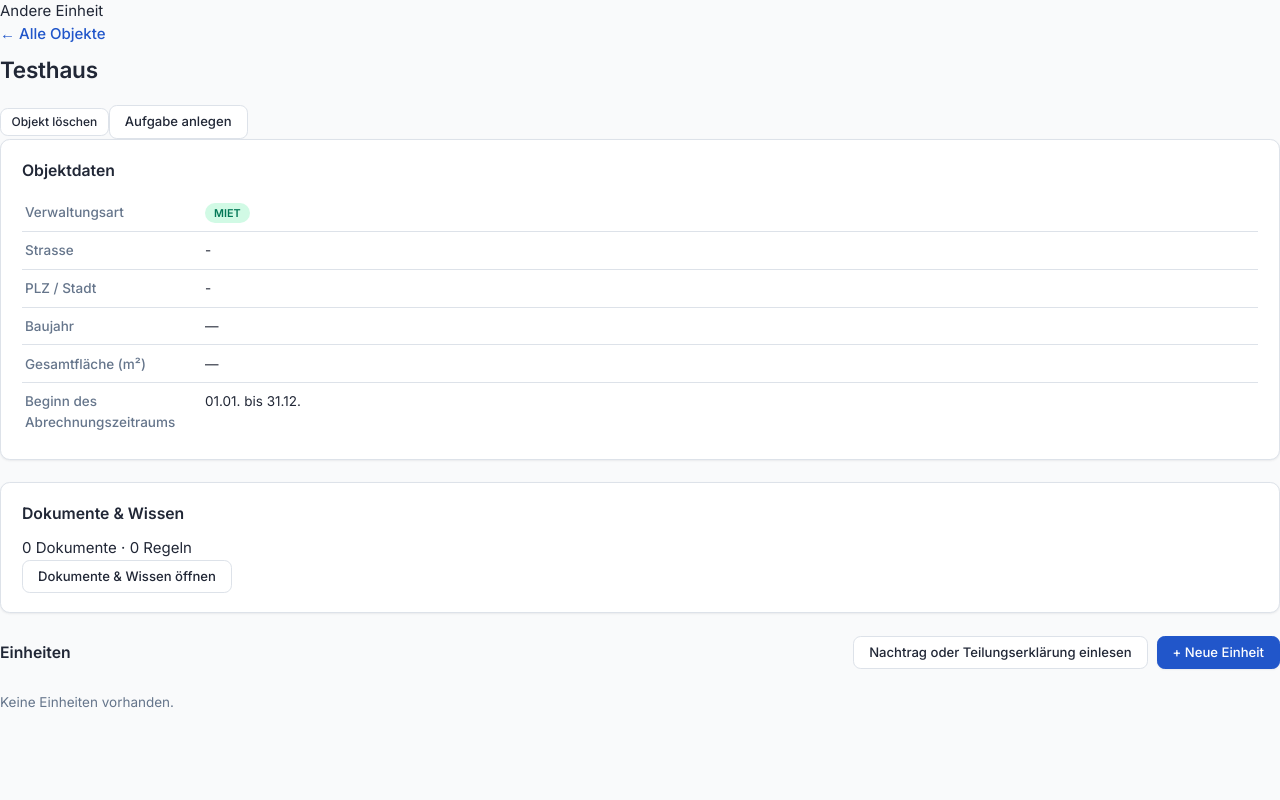
it: deletes /objekte/property and navigates to overview
This screenshot has width=1280, height=800.
Click the button "Objekt löschen" at [54, 122], box [0,108,109,136]
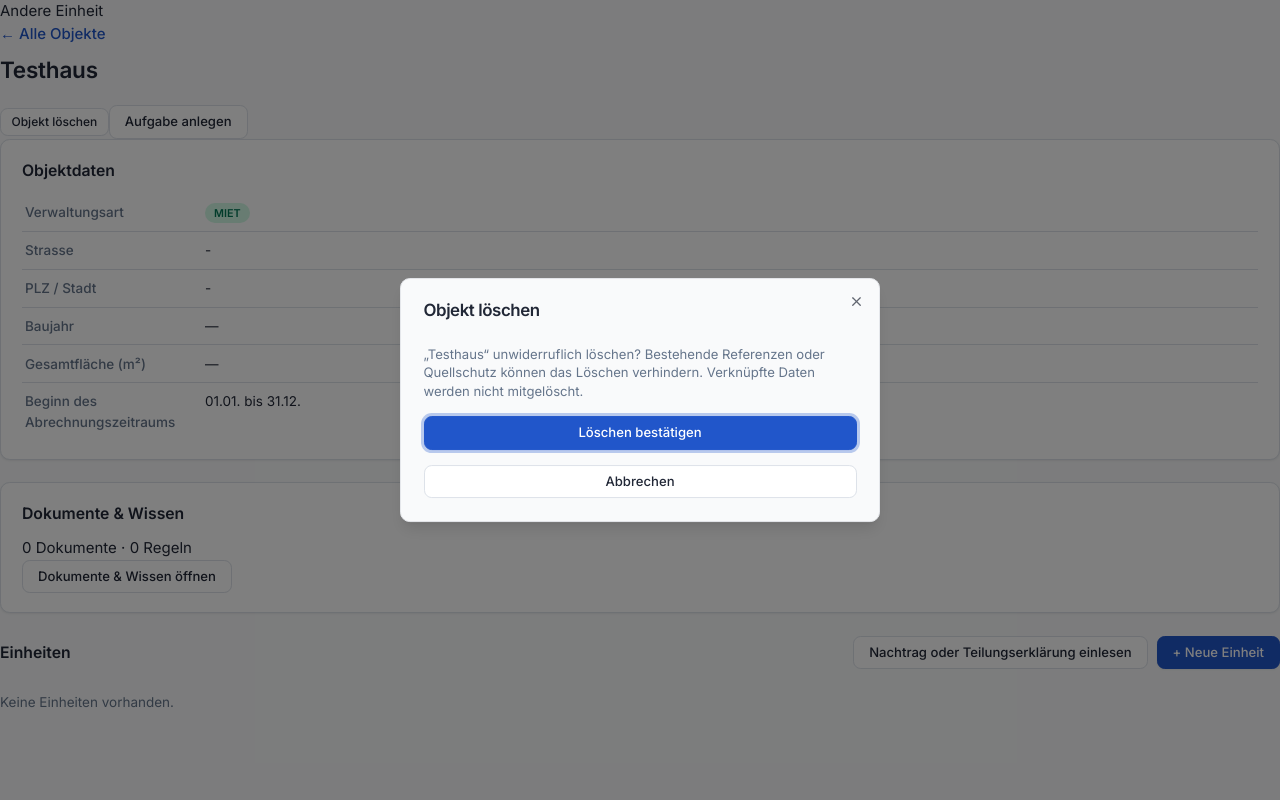
Click the button "Löschen bestätigen" at [640, 433], box [424,416,856,450]
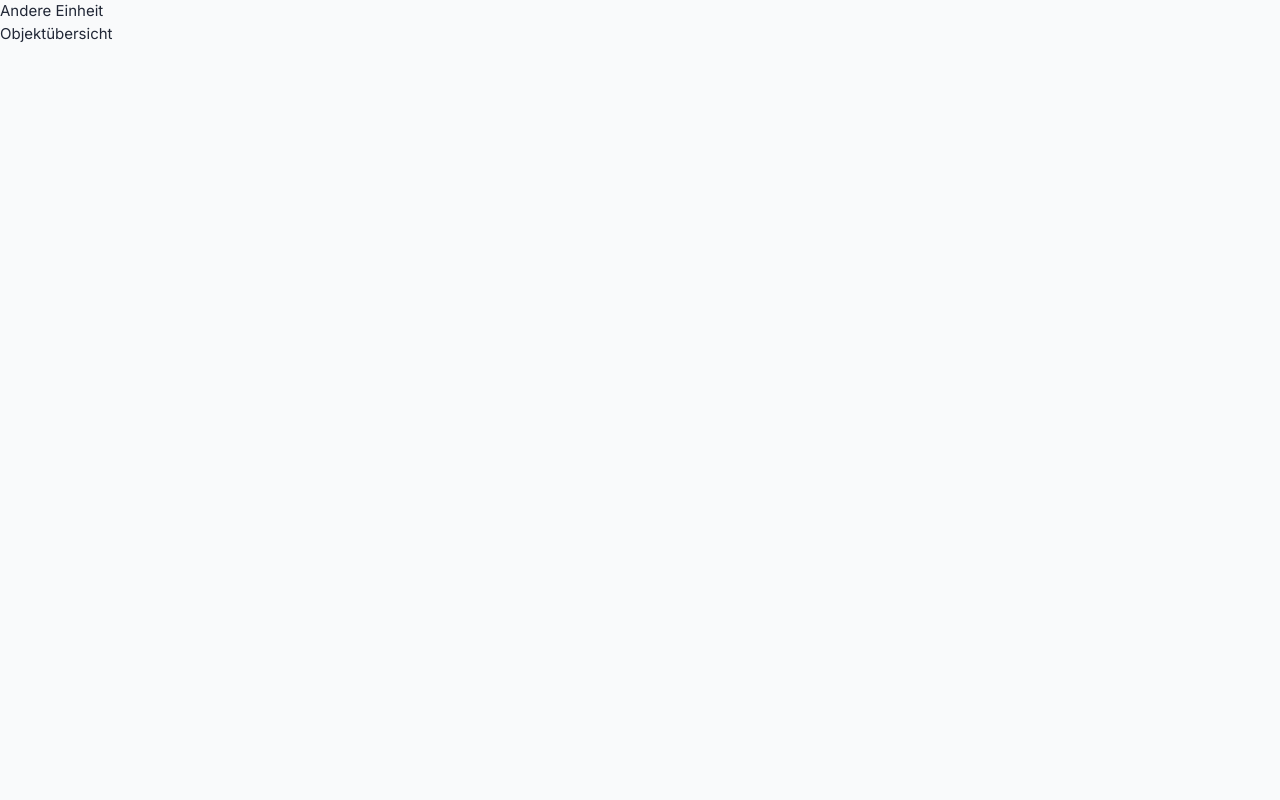
Check: the text "Objektübersicht" is shown, box [0,24,112,42]
